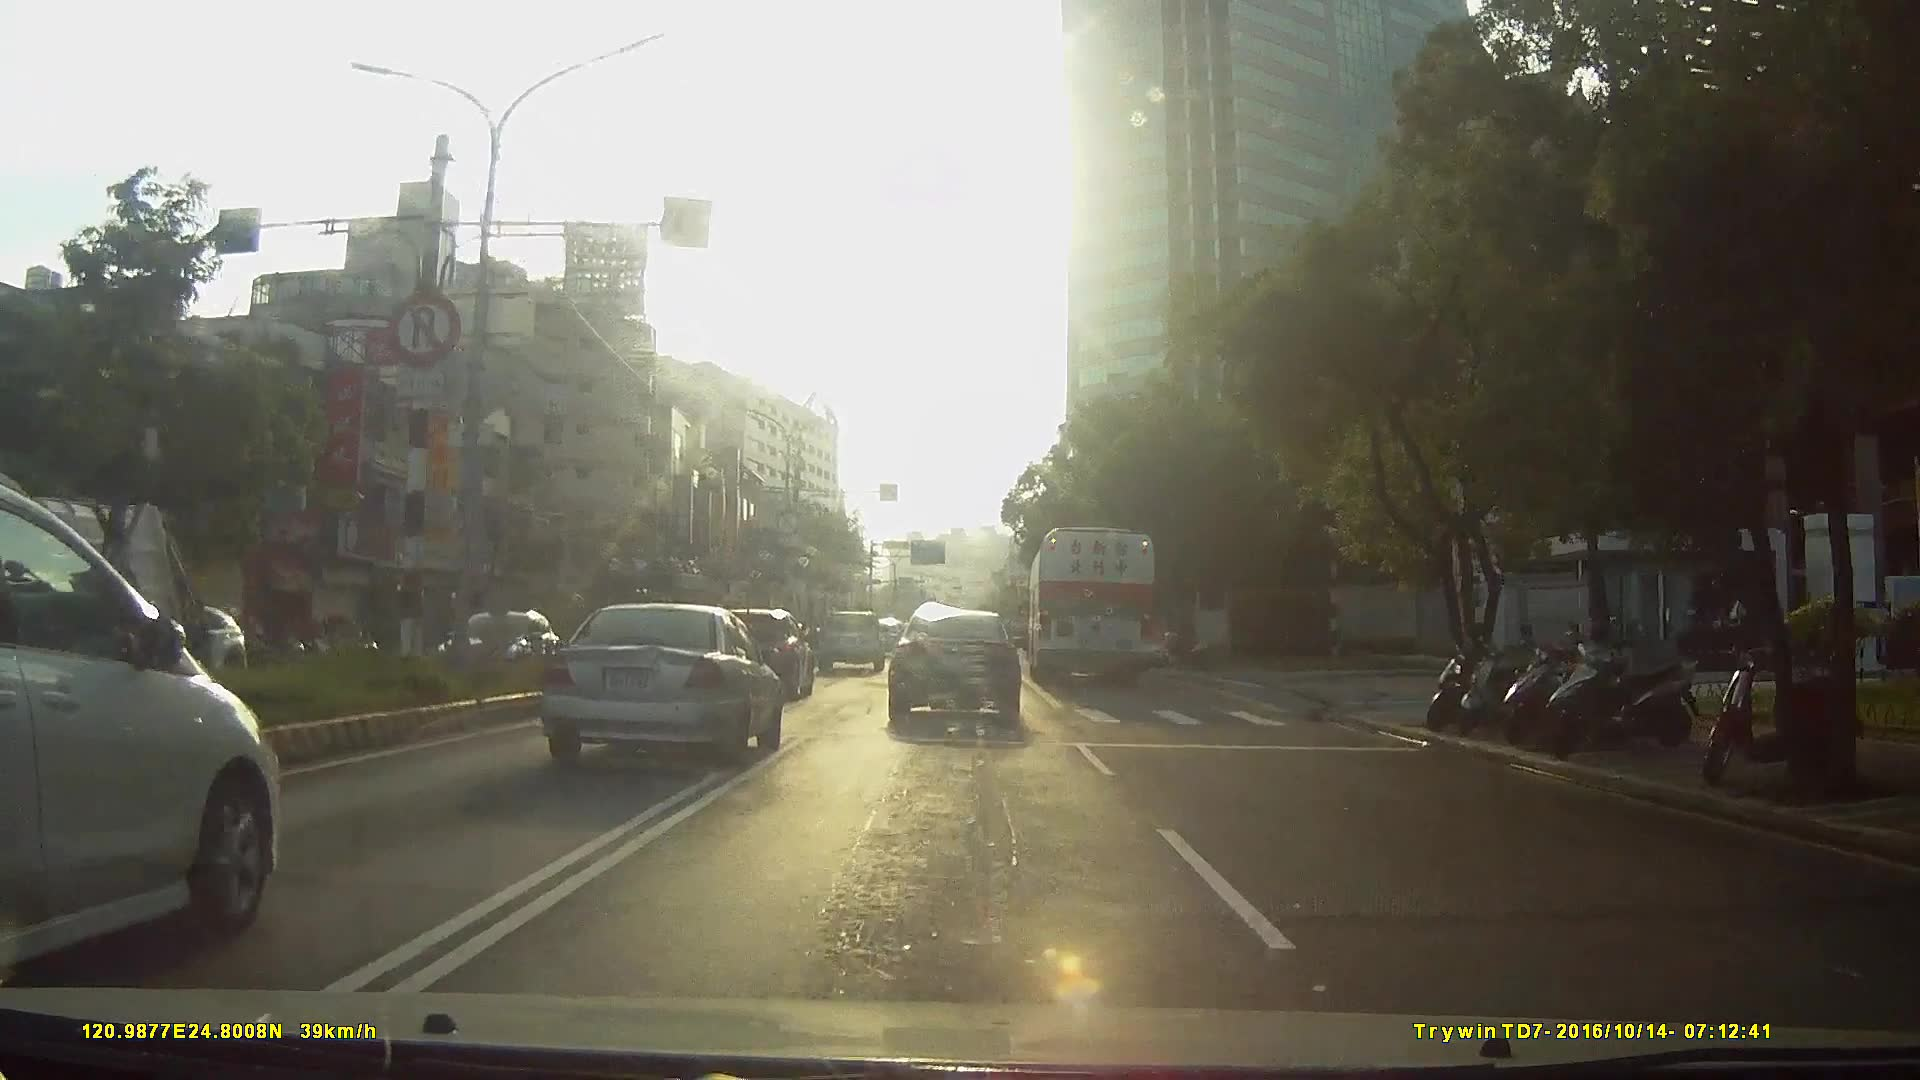vehicle: (1, 465, 309, 982), (251, 556, 684, 868), (527, 601, 781, 771), (1025, 522, 1160, 690), (887, 604, 1025, 715), (430, 609, 571, 683), (818, 608, 885, 675)
